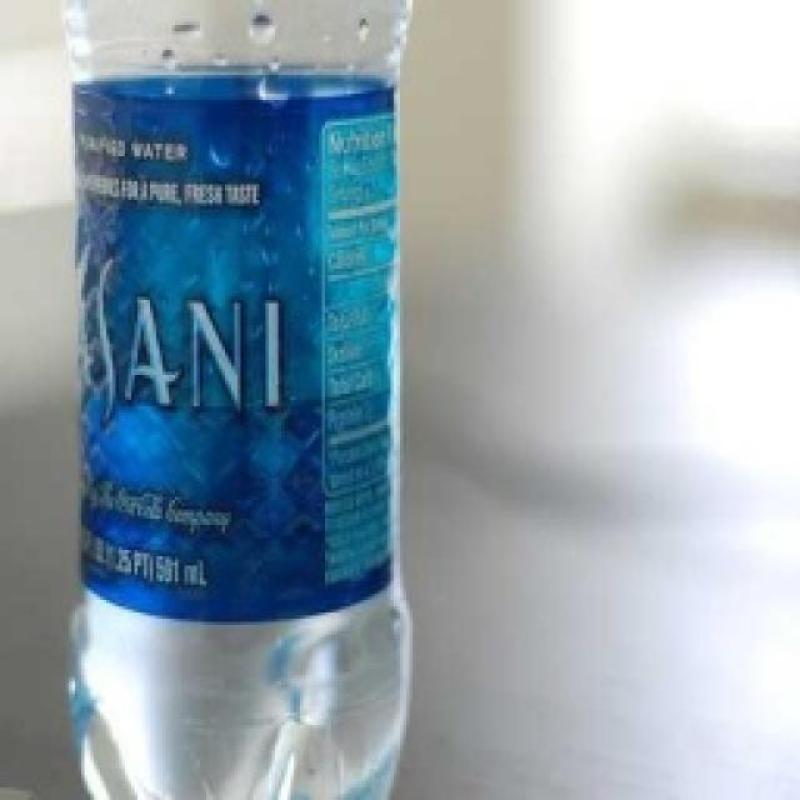botella: (62, 0, 410, 800)
